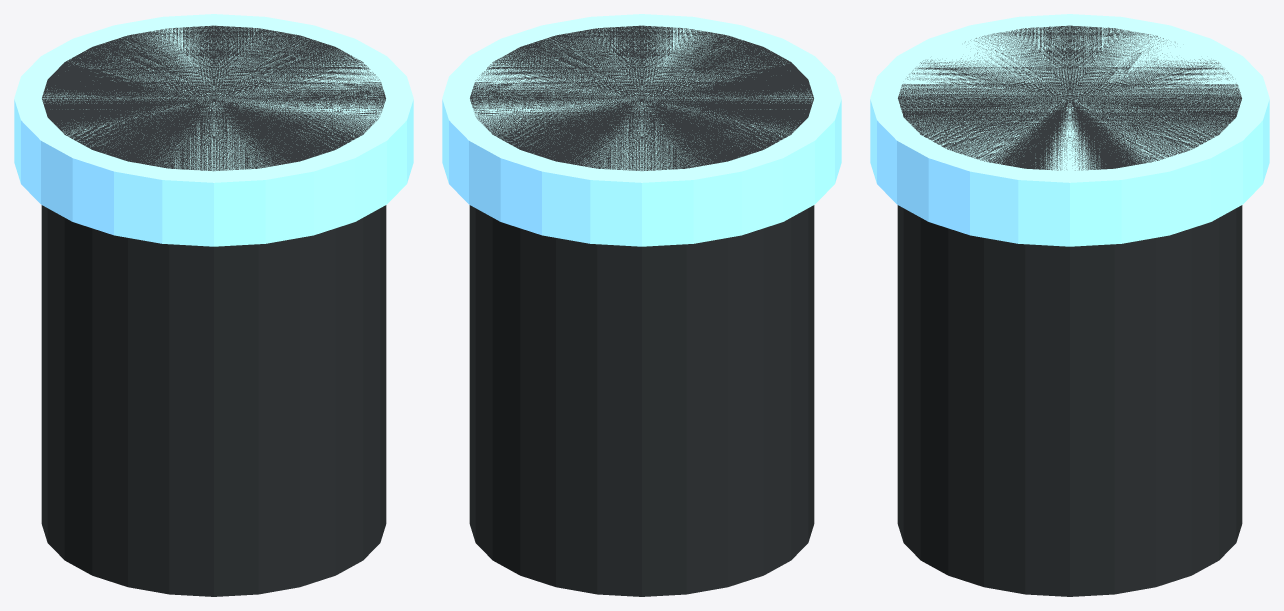
File: P013-blockout-v1.glb
The picture shows the model from 3 angles, left to right: view 1: azimuth 30°, elevation 25°; view 2: azimuth 150°, elevation 25°; view 3: azimuth 270°, elevation 25°; orthographic projection.
Visible parts, largest first — view 1: 筒身, 燈頭; view 2: 筒身, 燈頭; view 3: 筒身, 燈頭.
Boxes of the visible parts, x1,y1,x2,y2 form: 筒身: (41,25,386,596); 燈頭: (14,14,413,246); 筒身: (469,25,814,596); 燈頭: (442,14,841,246); 筒身: (897,25,1242,596); 燈頭: (870,14,1269,246).
Size of the model in its own units: 0.2552 by 0.3 by 0.2552.
